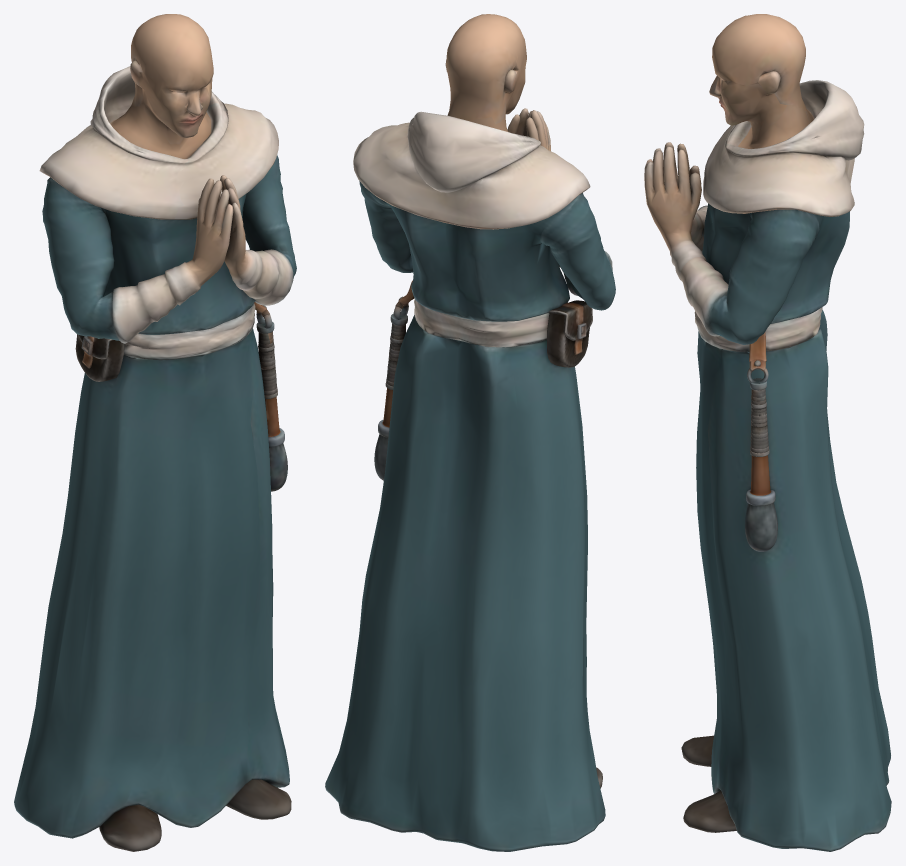
Rendered from Acolyte Male.glb.
3 views of the same model, side by side, from view 1: azimuth 30°, elevation 25°; view 2: azimuth 150°, elevation 25°; view 3: azimuth 270°, elevation 25° (orthographic). The views are drawn at different scales.
Visible parts, largest first — view 1: Body.002; view 2: Body.002; view 3: Body.002.
Part boxes in pixels (bbox=[...]): Body.002: bbox=[14, 14, 296, 851]; Body.002: bbox=[325, 14, 615, 851]; Body.002: bbox=[644, 14, 891, 851].
Bounding box in the file's own units: 0.3144 × 0.9164 × 0.2652.
Materials: 1 (1 with a texture image).
